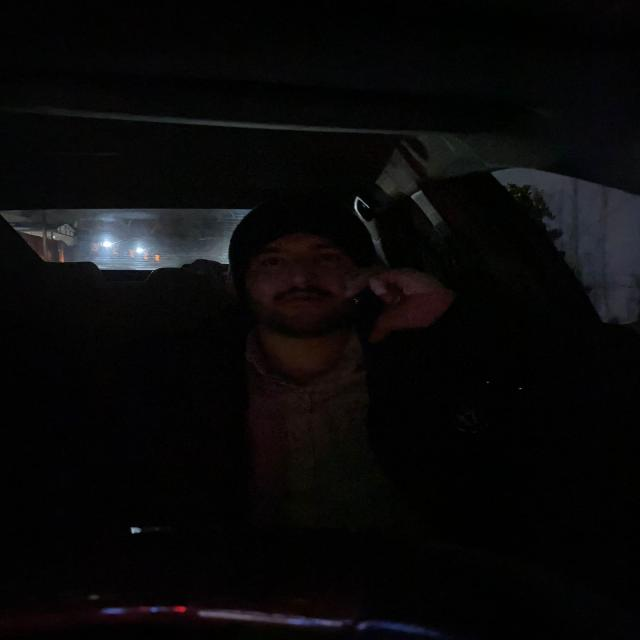mobile: (358, 258, 408, 330)
person: (232, 196, 370, 338)
